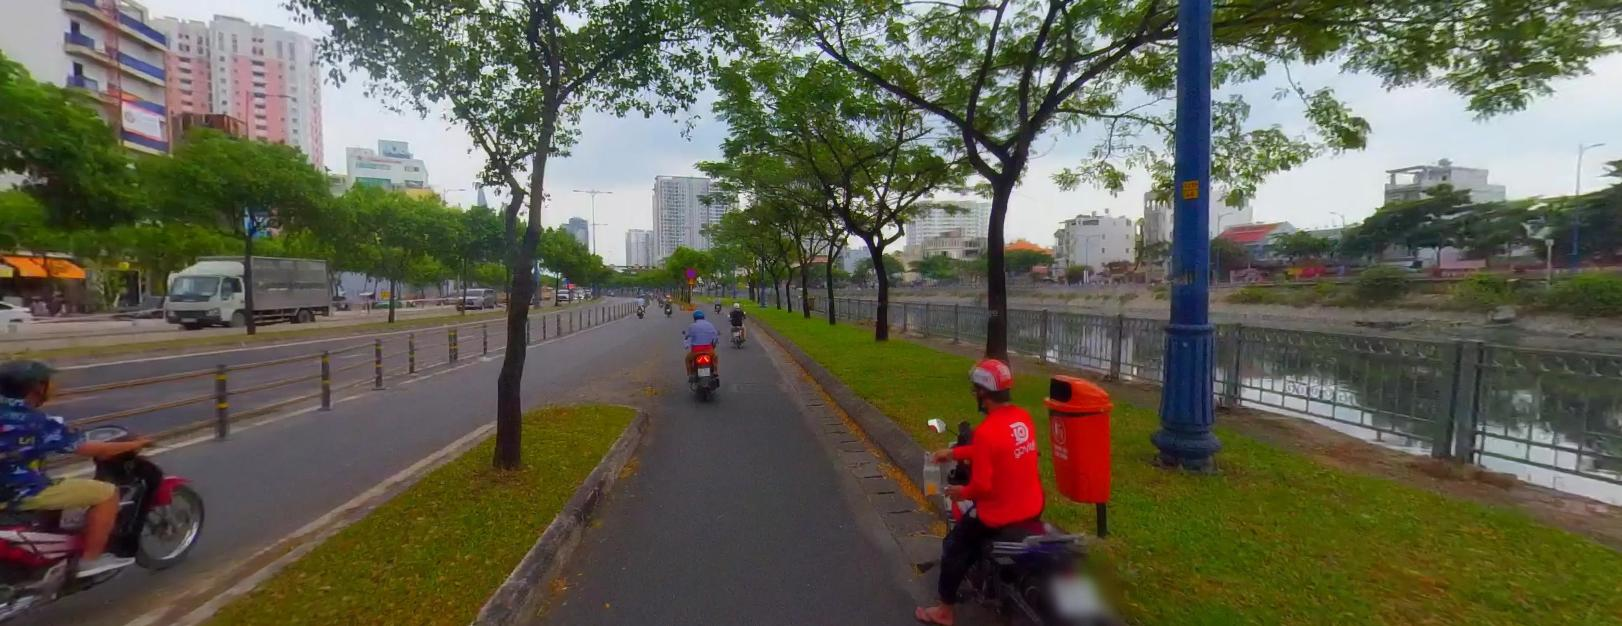Cam dung va do: (685, 266, 695, 275)
Nguy hiem: (686, 276, 694, 284)
